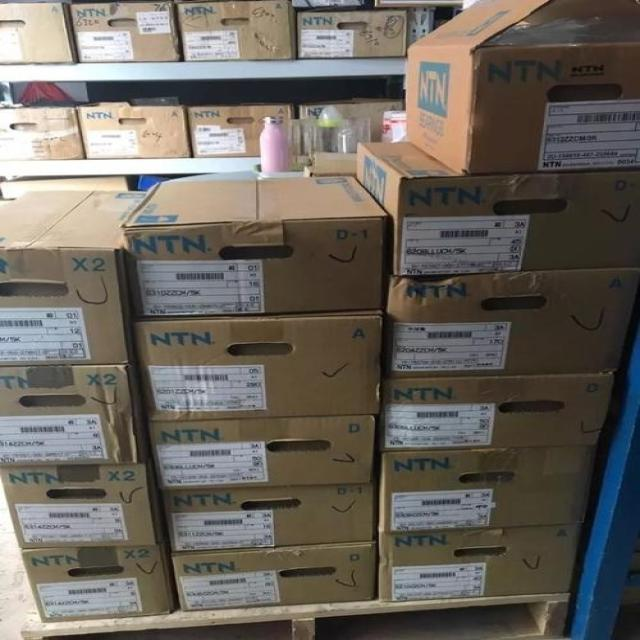box: (406, 0, 639, 177), (356, 141, 639, 276), (120, 175, 387, 317), (383, 267, 639, 379), (129, 311, 384, 420), (0, 190, 147, 365), (382, 370, 625, 451), (377, 448, 598, 532), (147, 412, 378, 492), (377, 524, 585, 602), (161, 485, 376, 552), (0, 465, 163, 550), (172, 543, 377, 610), (21, 546, 175, 623), (173, 1, 295, 60), (68, 0, 180, 63), (76, 100, 193, 158), (188, 102, 296, 158), (0, 101, 94, 159), (298, 10, 408, 57), (297, 97, 404, 142), (0, 3, 76, 64)
